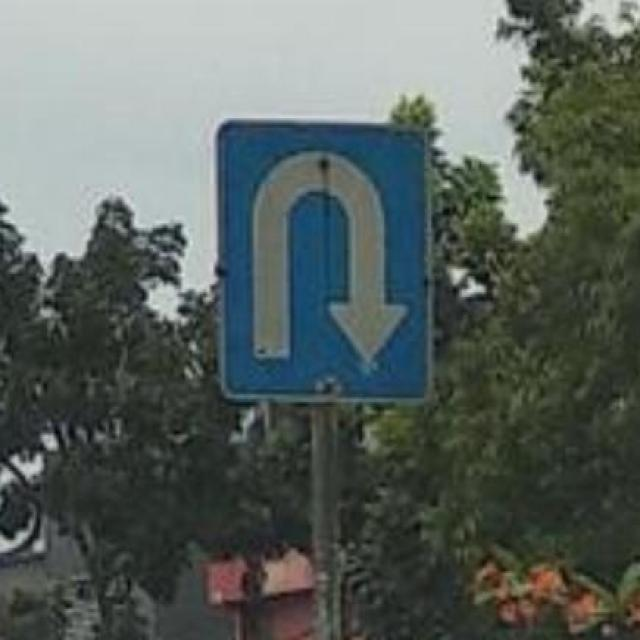traffic sign: (215, 120, 432, 402)
